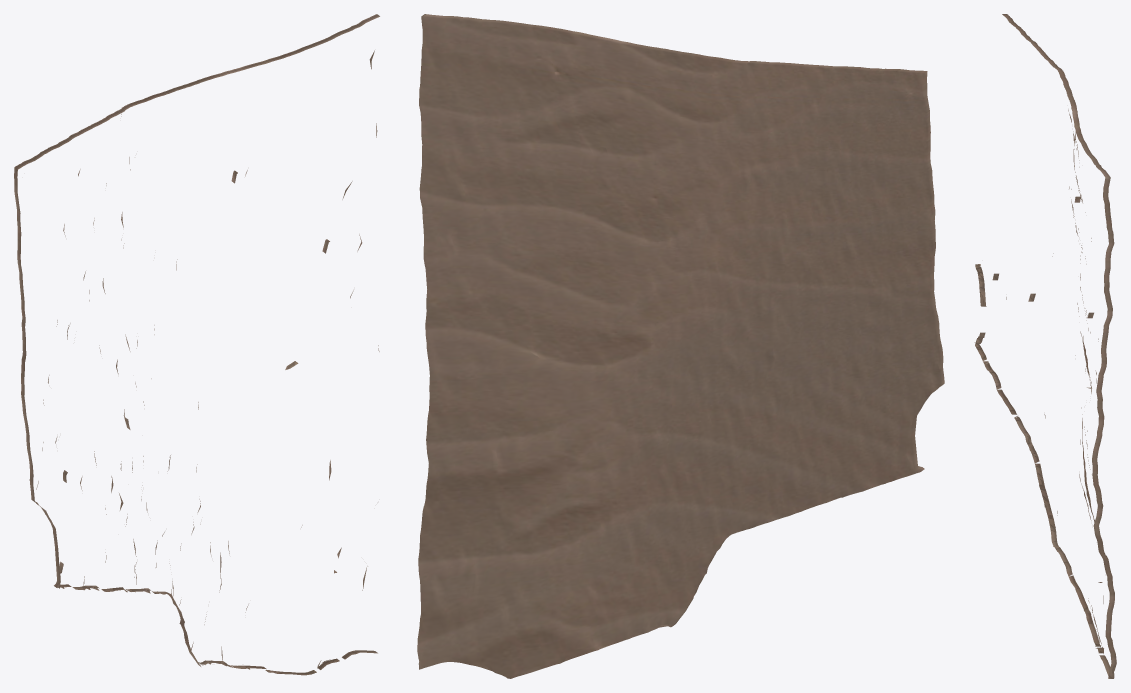
3 views of the same model, side by side, from view 1: azimuth 30°, elevation 25°; view 2: azimuth 150°, elevation 25°; view 3: azimuth 270°, elevation 25° (orthographic). The views are drawn at different scales.
Bounding box in the file's own units: 0.7209 × 1.03 × 0.2678.
Materials: 1 (1 with a texture image).
